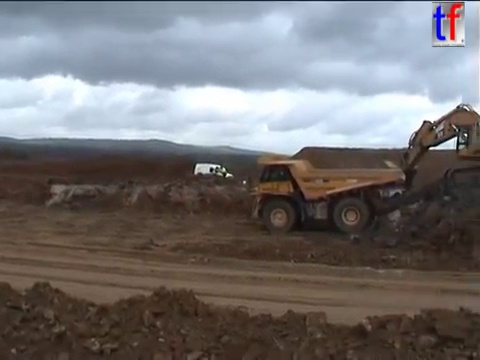excavator: (373, 101, 480, 209)
truck: (240, 153, 408, 235)
worker: (219, 164, 228, 182), (212, 165, 220, 181)
